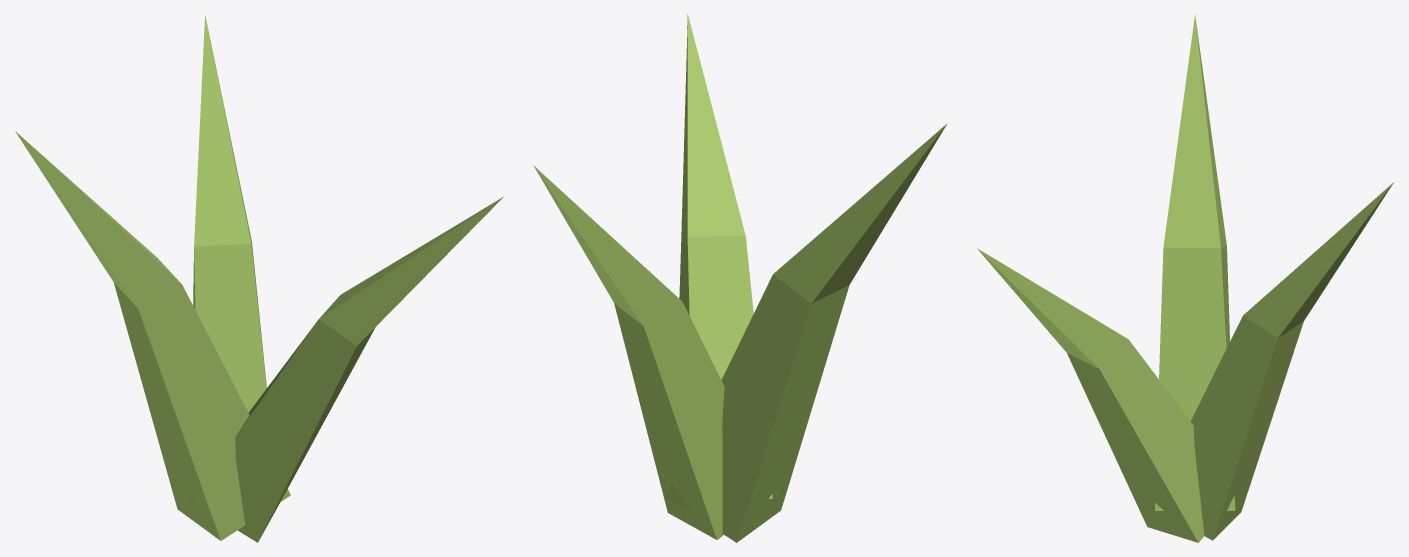
Rendered from 浅色小草2.fbx.
3 views of the same model, side by side, from view 1: azimuth 30°, elevation 25°; view 2: azimuth 150°, elevation 25°; view 3: azimuth 270°, elevation 25° (orthographic). The views are drawn at different scales.
Parts seen in each view (by area): view 1: Grass1; view 2: Grass1; view 3: Grass1.
Boxes of the visible parts, x1,y1,x2,y2 form: Grass1: (15,14,503,542); Grass1: (533,14,947,542); Grass1: (977,14,1393,542).
Size of the model in its own units: 51.2 by 58.75 by 53.7.
